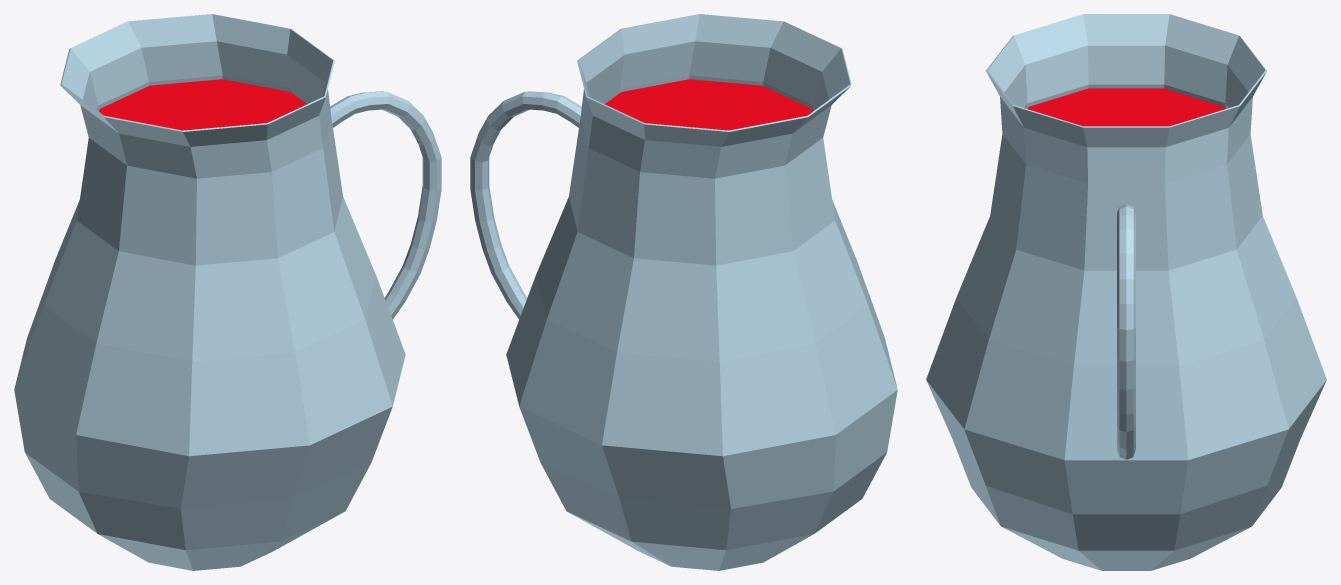
The model's file is JarraGroselha.fbx.
The picture shows the model from 3 angles, left to right: view 1: azimuth 30°, elevation 25°; view 2: azimuth 150°, elevation 25°; view 3: azimuth 270°, elevation 25°; orthographic projection.
Parts seen in each view (by area): view 1: JarraGroselha; view 2: JarraGroselha; view 3: JarraGroselha.
Boxes of the visible parts, <box> form: JarraGroselha: <box>14,14,441,570</box>; JarraGroselha: <box>470,14,897,570</box>; JarraGroselha: <box>926,14,1326,570</box>.
Size of the model in its own units: 26.52 by 29.92 by 23.25.
2 materials, 1 textured.
